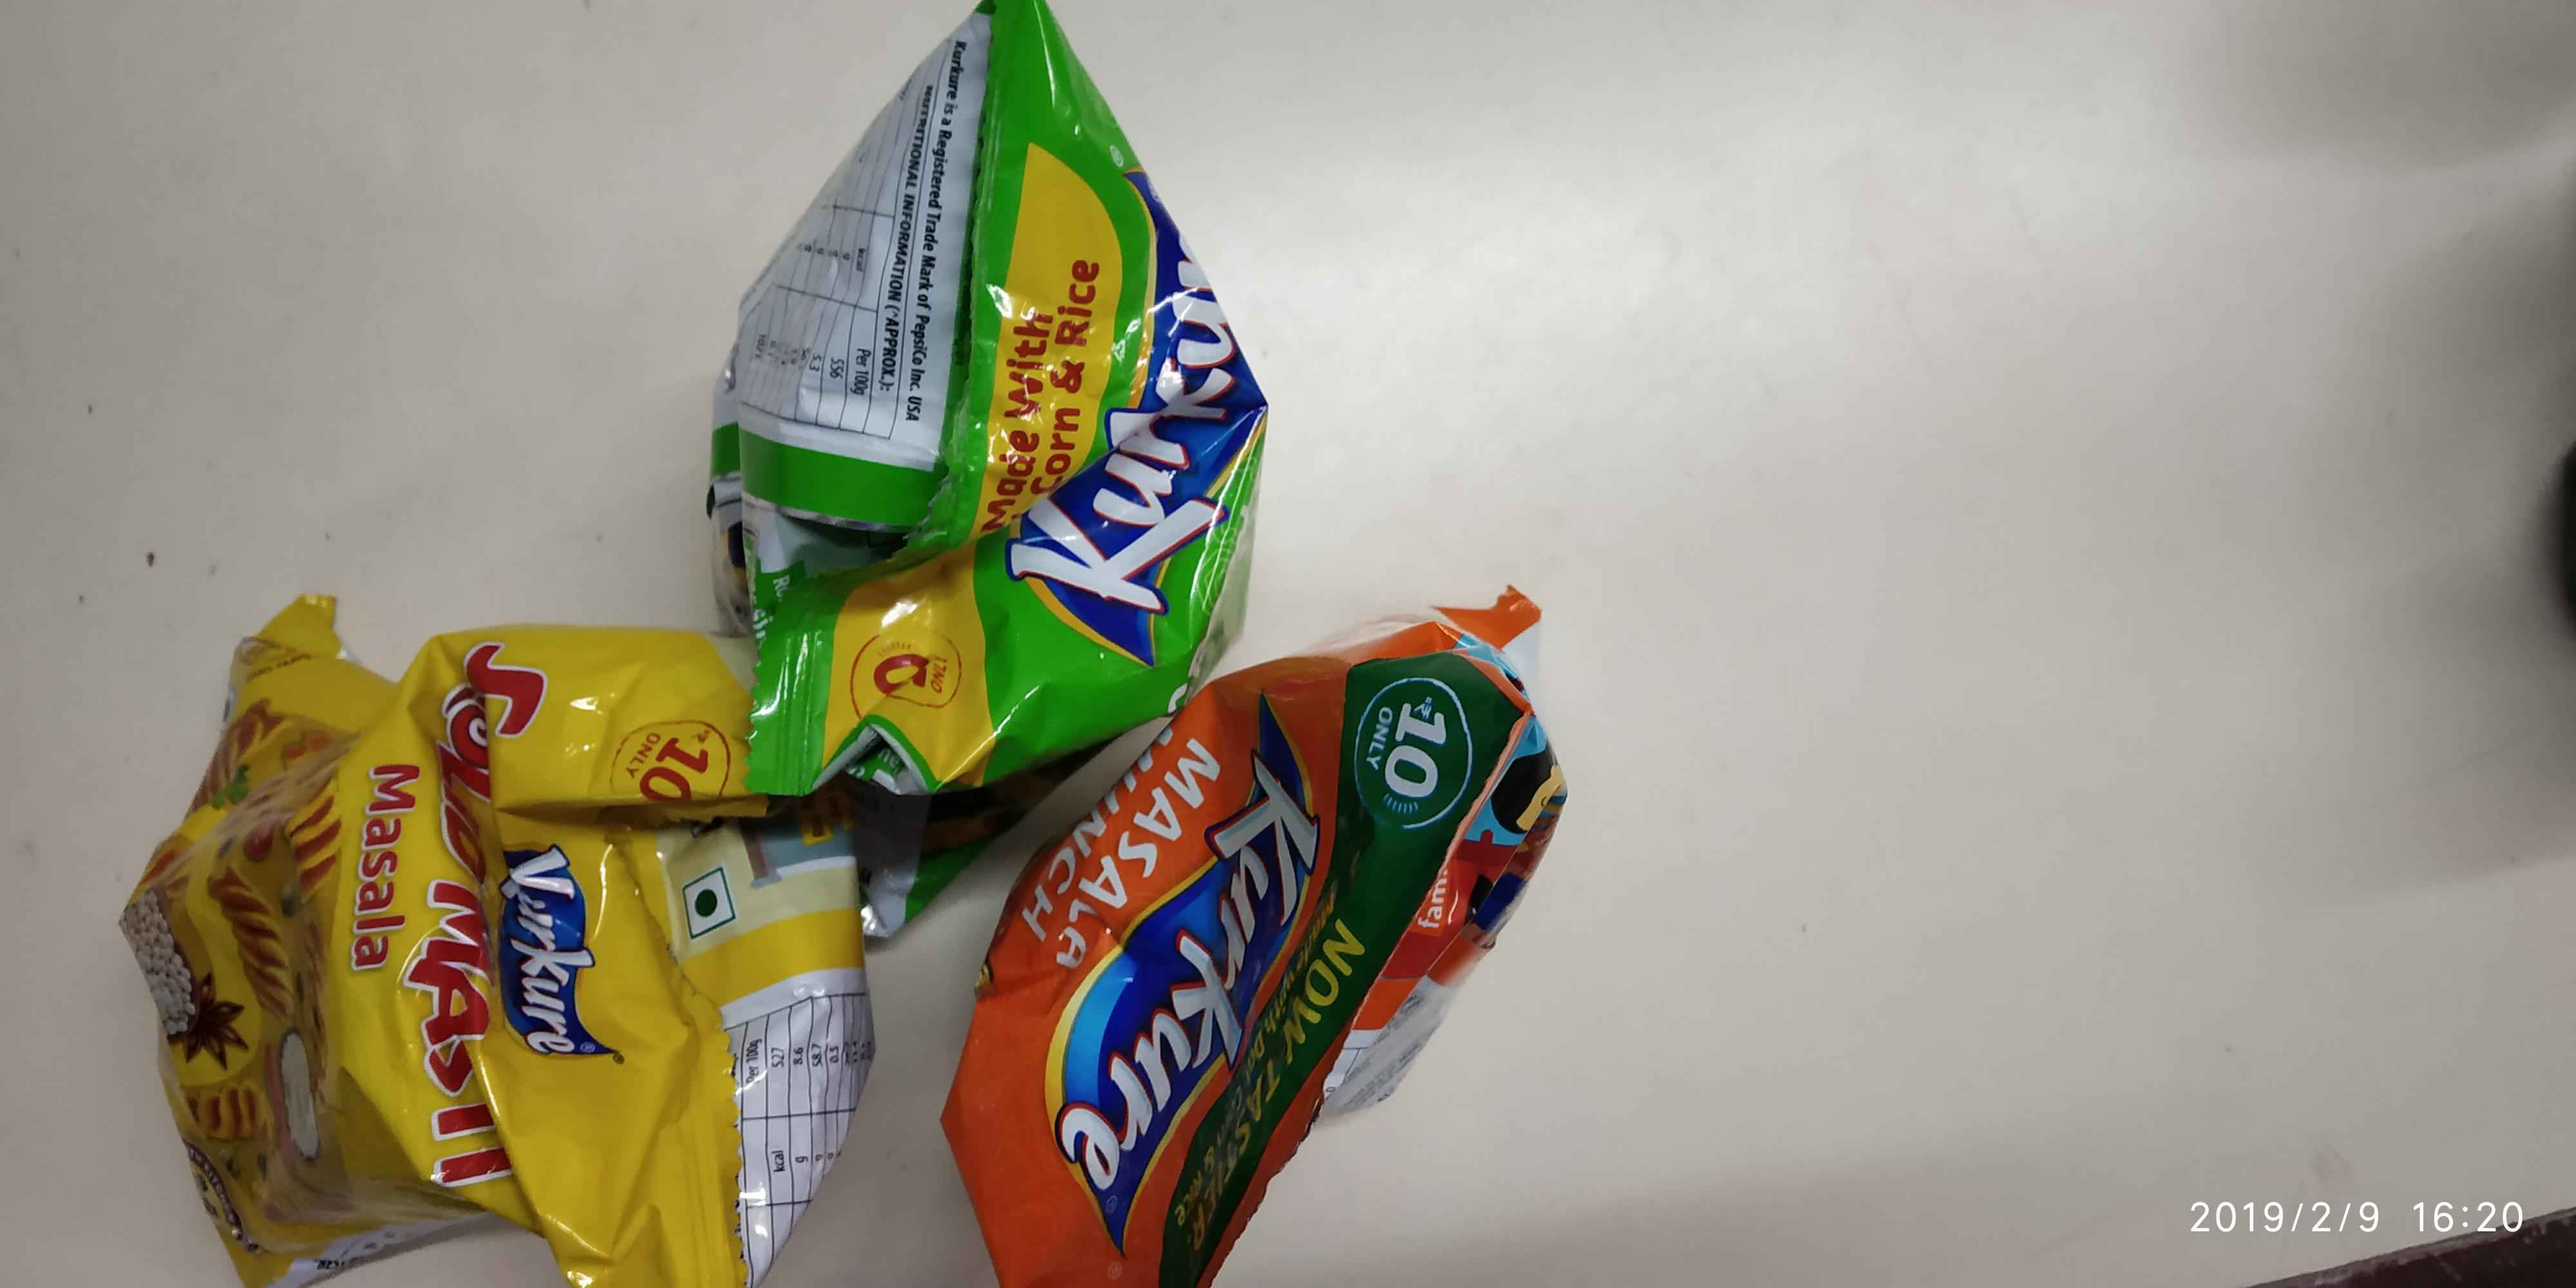kurkure: (1058, 706, 1319, 1234), (1045, 215, 1273, 647), (495, 841, 623, 1065)
